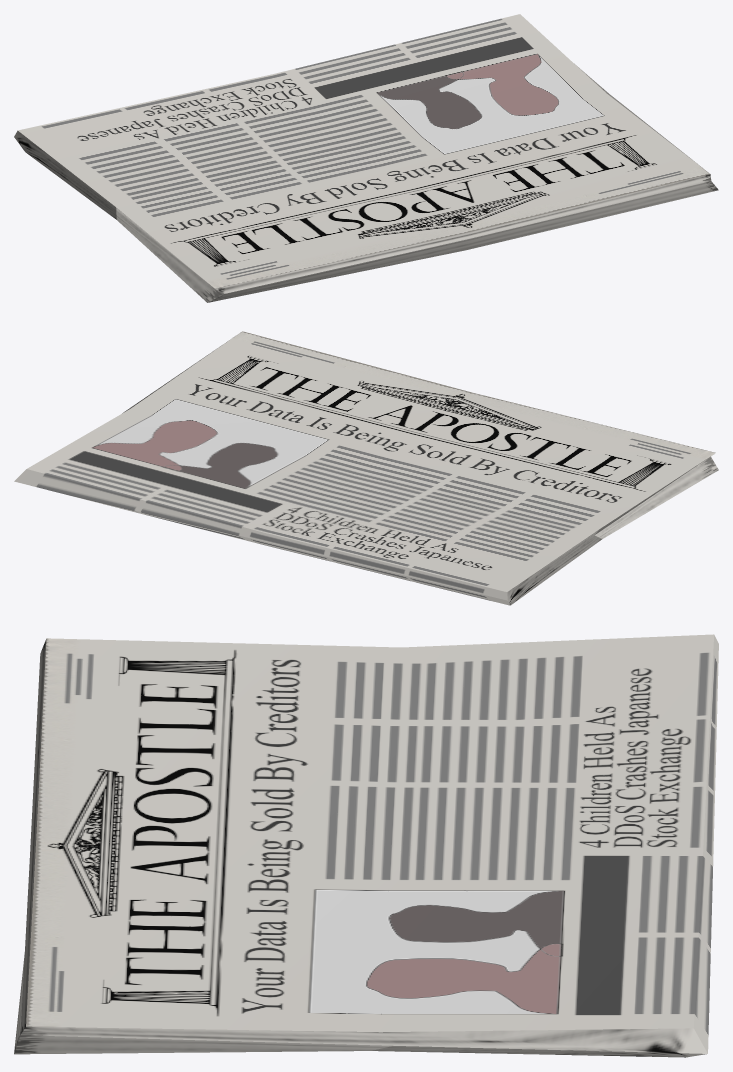
The model's file is Newspaper_single.fbx.
3 views of the same model, one above another, from view 1: azimuth 30°, elevation 25°; view 2: azimuth 150°, elevation 25°; view 3: azimuth 270°, elevation 25° (orthographic). The views are drawn at different scales.
Visible parts, largest first — view 1: NewsPaper_single; view 2: NewsPaper_single; view 3: NewsPaper_single.
Boxes of the visible parts, <box> form: NewsPaper_single: <box>14,14,718,302</box>; NewsPaper_single: <box>14,331,718,605</box>; NewsPaper_single: <box>14,634,718,1057</box>.
Size of the model in its own units: 0.4049 by 0.0188 by 0.2934.
